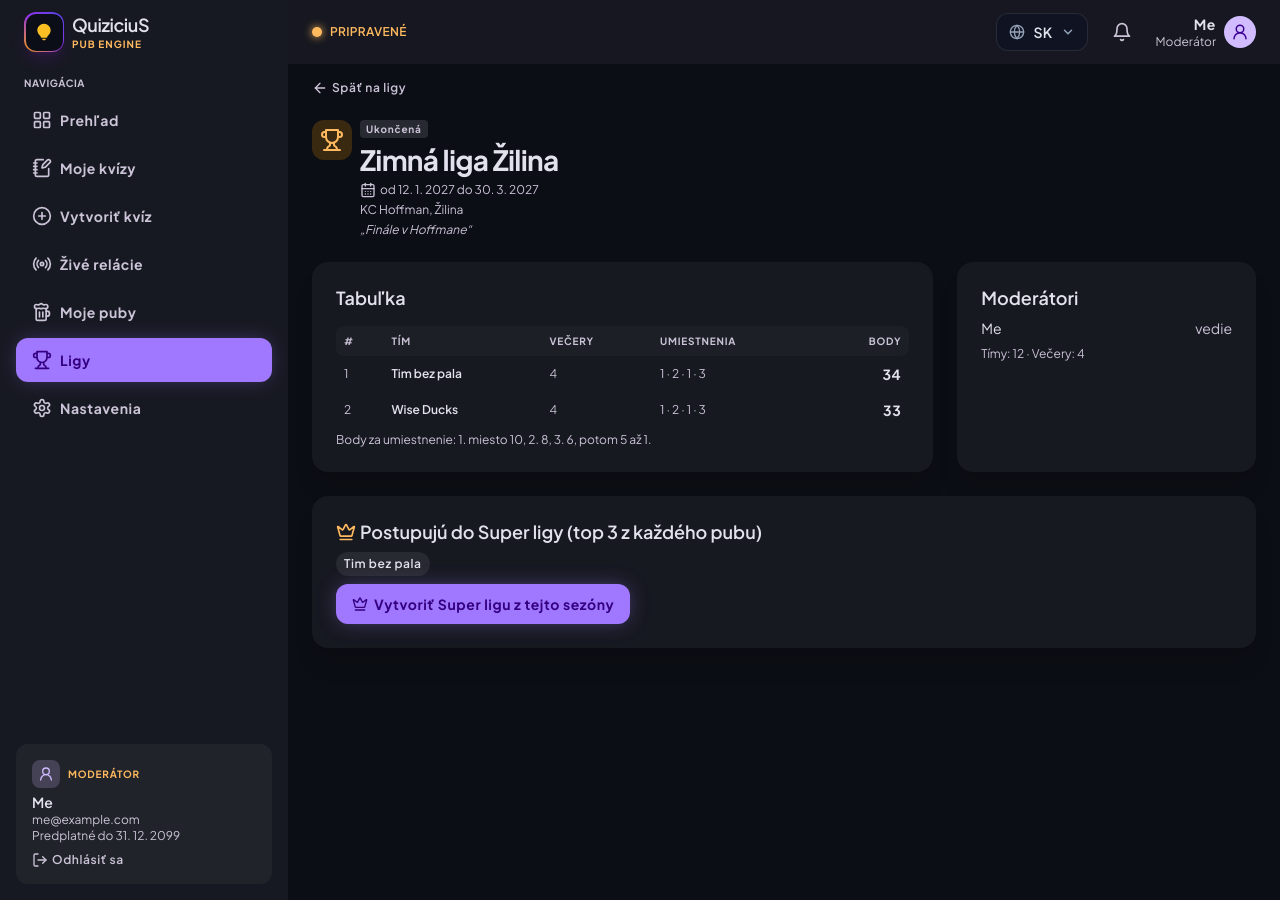
opening the Super League › does not keep showing the closed league while the new one loads
The image size is (1280, 900).
Click the button with test id "league-create-super".
click(483, 604)  # box [336,584,630,624]
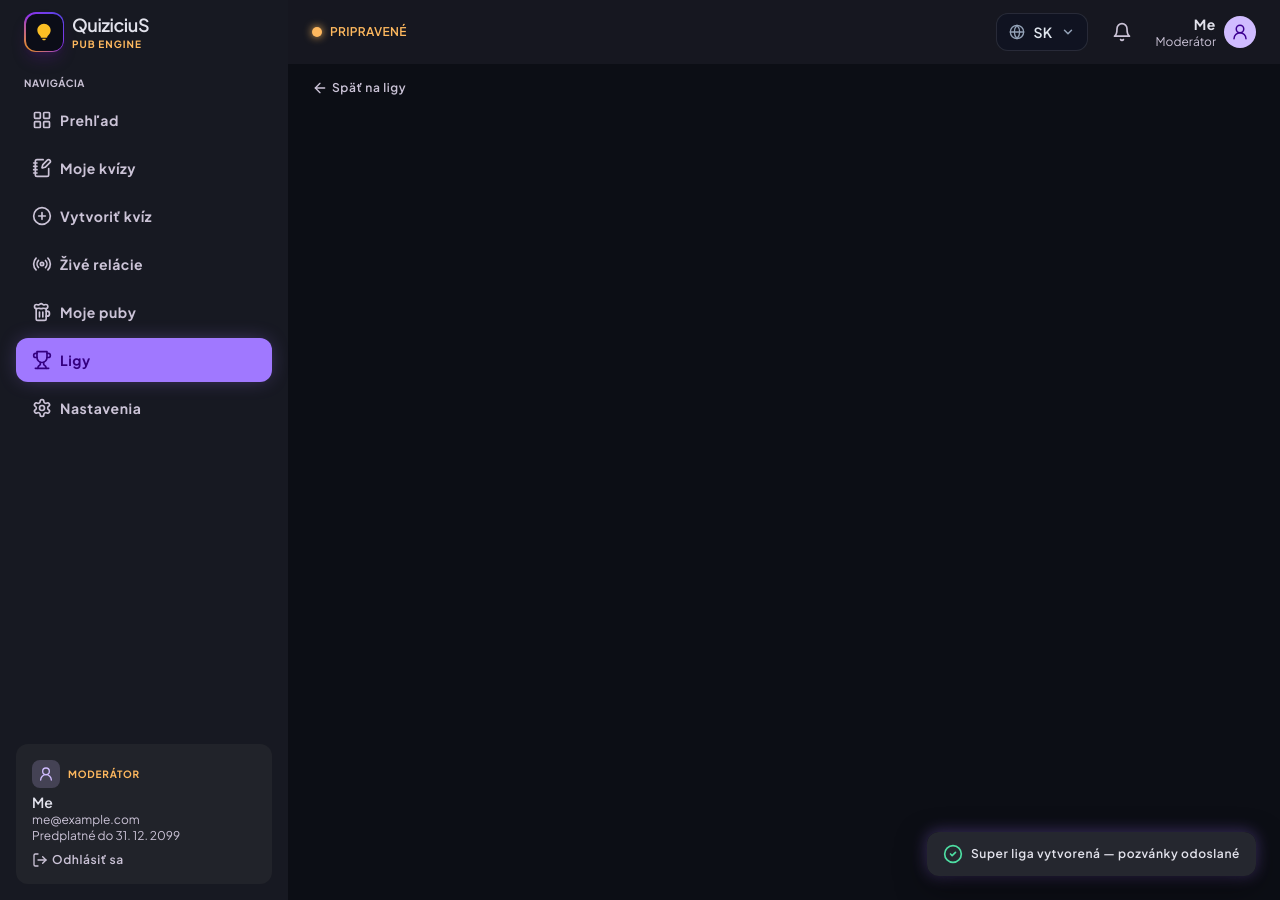
Now the element with test id "league-qualified" is gone
Now the button with test id "league-create-super" is gone
